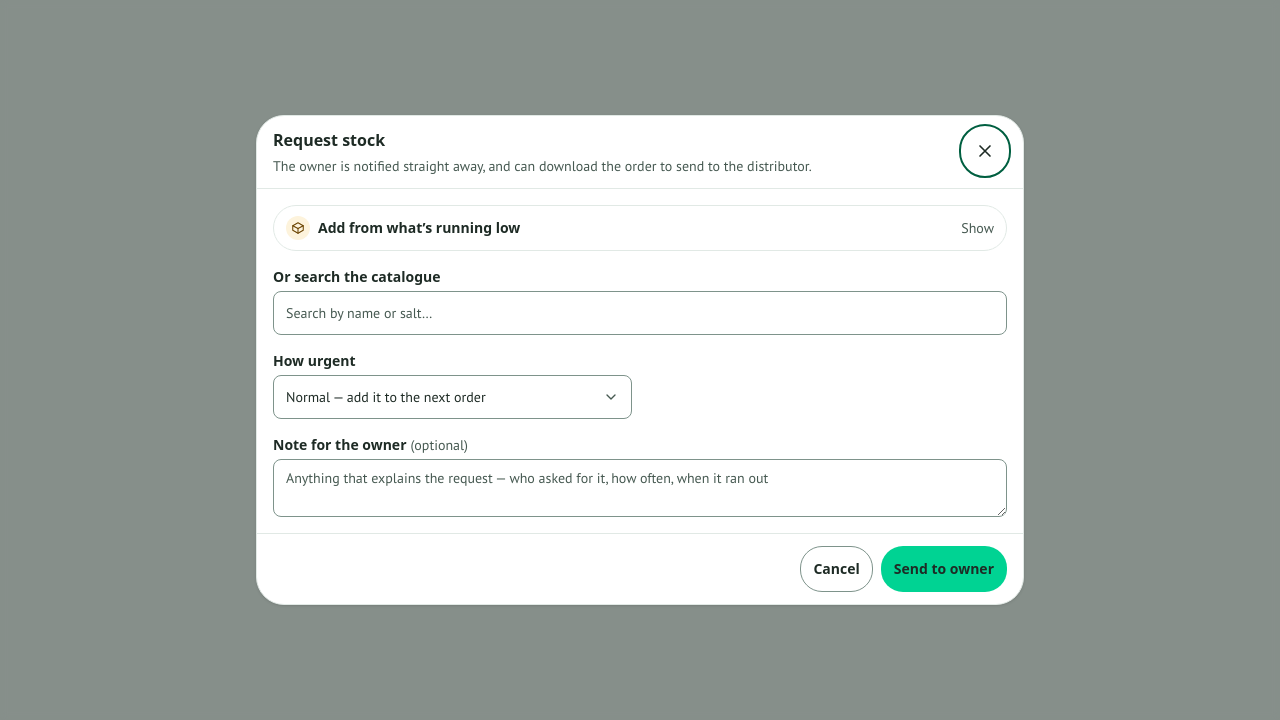
Scenario: the vendor dropdown › pre-selects the cheapest distributor
The width and height of the screenshot is (1280, 720).
Click the button "Add from what’s running low Show" at (419, 228), box [274, 206, 1006, 250]
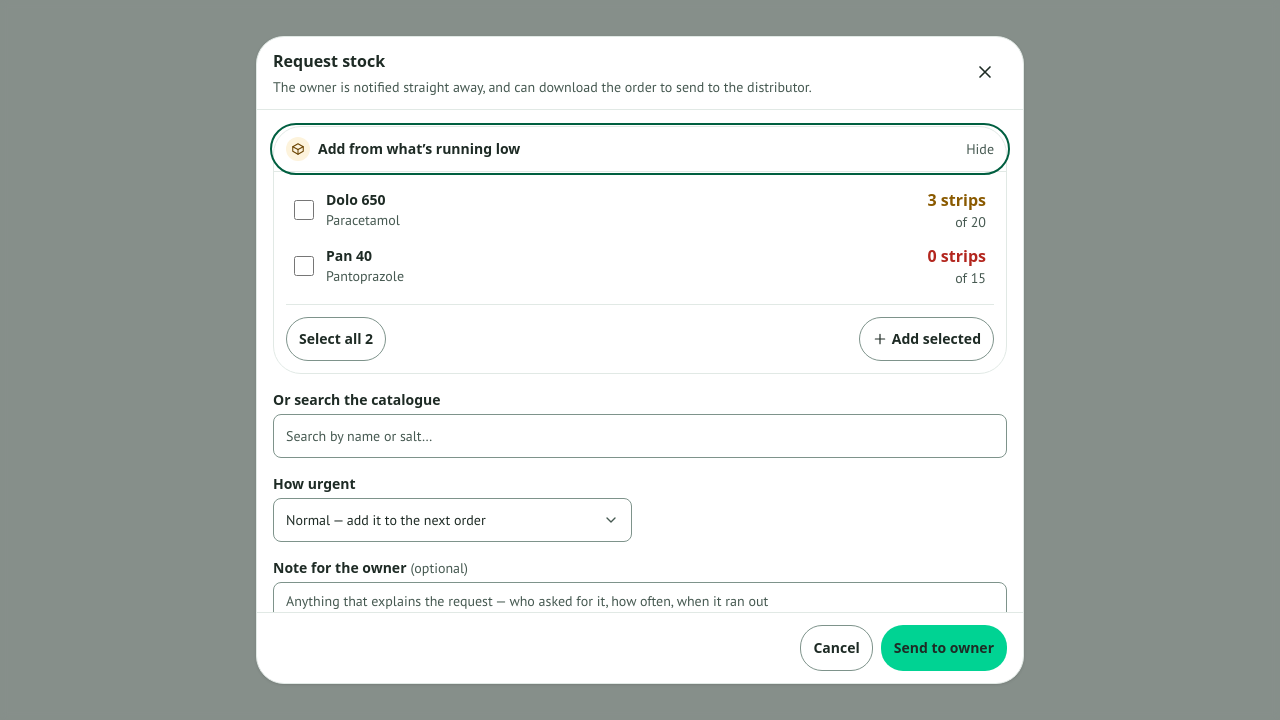
Expected: the checkbox labelled "Dolo 650 Paracetamol 3 strips of 20" is shown, [294, 200, 314, 220]
Click the button "Select all 2" at (336, 339), box [286, 317, 386, 361]
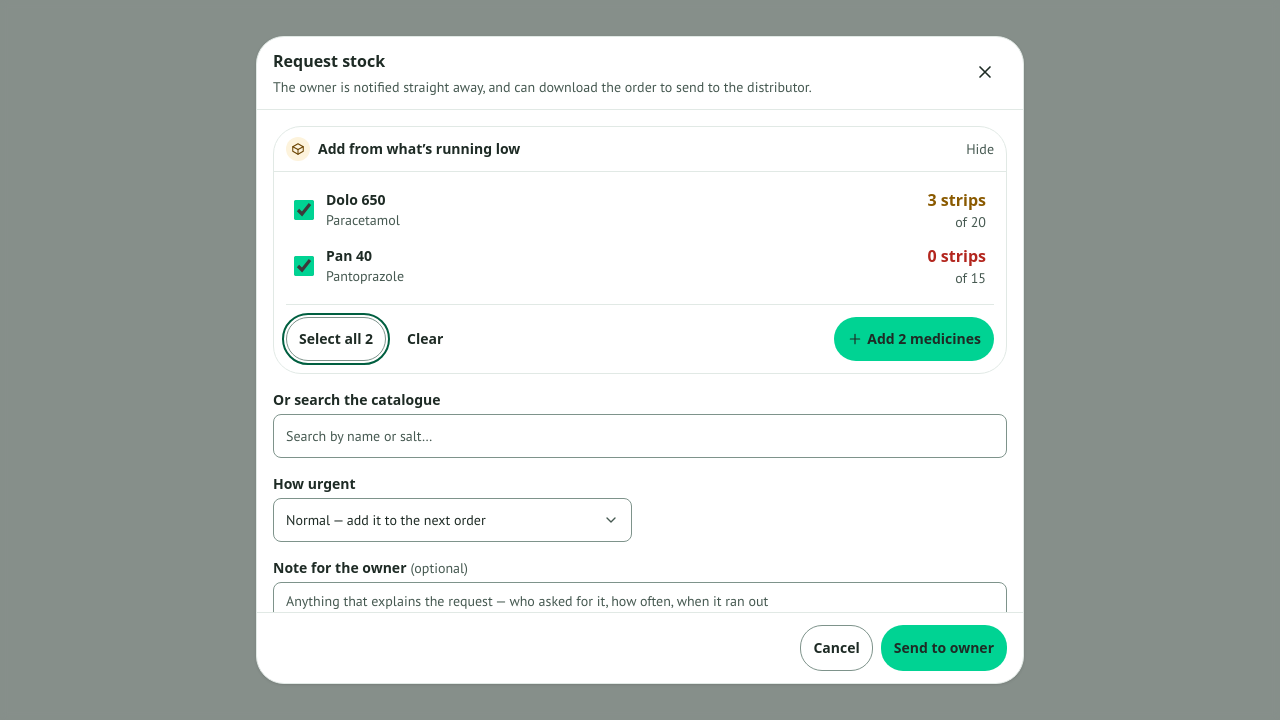
Click the button "Add 2 medicines" at (914, 339), box [834, 317, 994, 361]
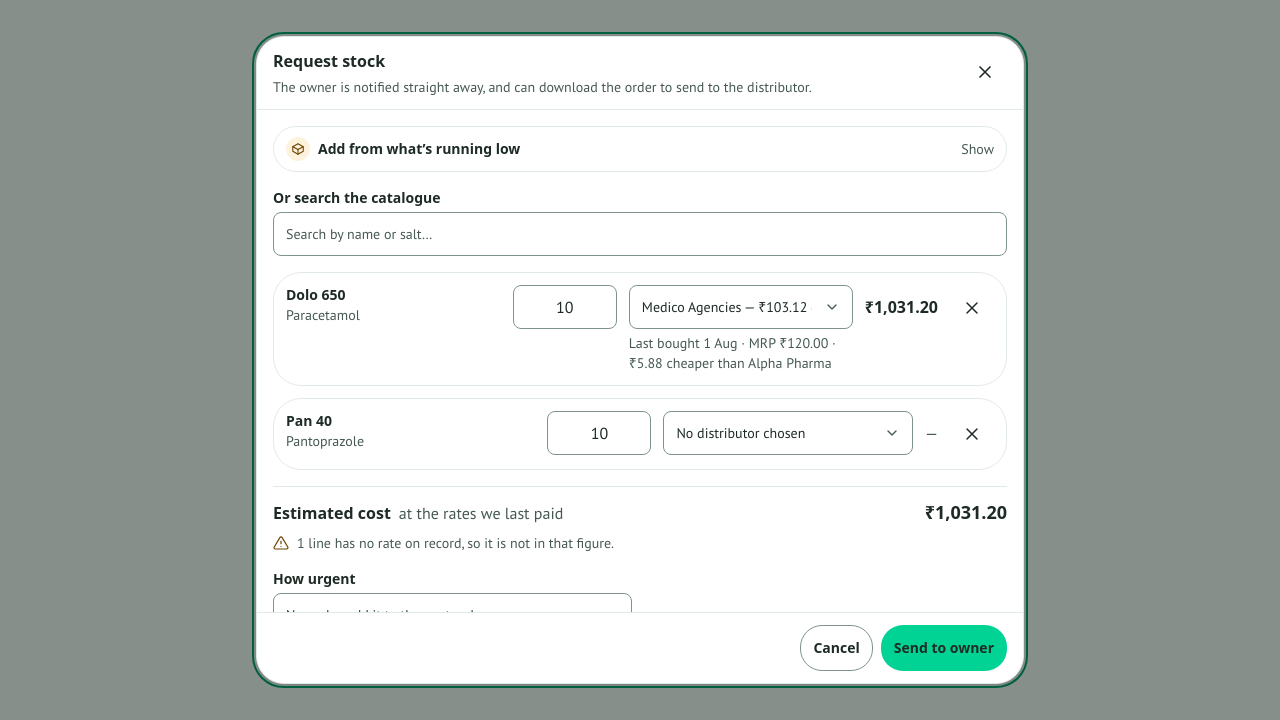
Expected: the dropdown named "Distributor for Dolo 650" in the row of "Dolo 650" shows "Medico Agencies — ₹103.12 (lowest)", [629, 285, 853, 329]
